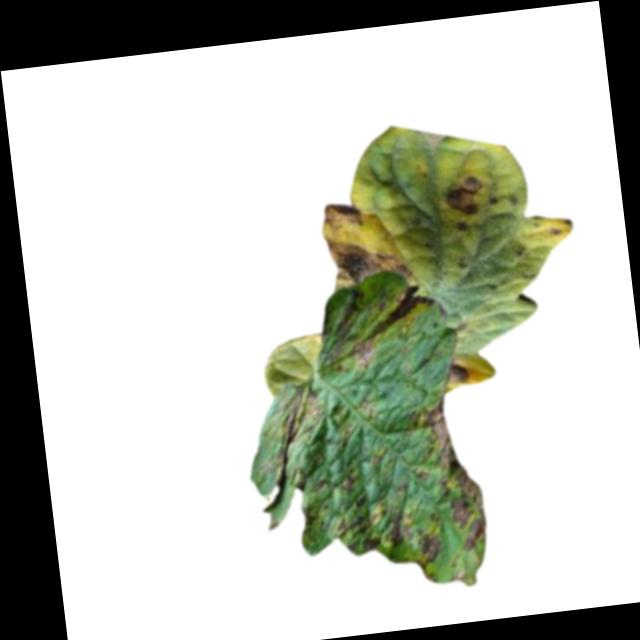Early_blight: (418, 392, 492, 556), (343, 284, 438, 370), (325, 229, 415, 291), (331, 497, 416, 553), (441, 173, 485, 220), (320, 200, 372, 231), (413, 533, 441, 569), (443, 362, 471, 390), (454, 220, 470, 235)
